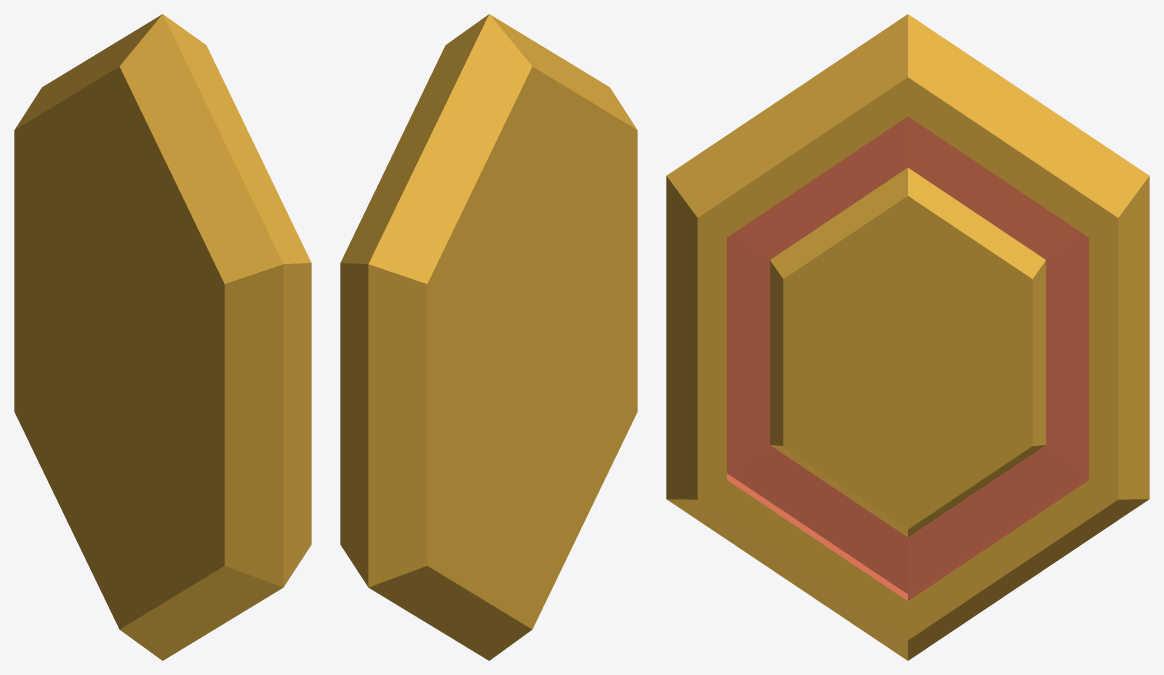
The model's file is Moneta.fbx.
The picture shows the model from 3 angles, left to right: view 1: azimuth 30°, elevation 25°; view 2: azimuth 150°, elevation 25°; view 3: azimuth 270°, elevation 25°; orthographic projection.
Visible parts, largest first — view 1: Cylinder; view 2: Cylinder; view 3: Cylinder.
Boxes of the visible parts, x1,y1,x2,y2 form: Cylinder: (14,14,311,660); Cylinder: (340,14,637,660); Cylinder: (666,14,1149,660).
Bounding box in the file's own units: 45.11 × 294 × 199.
